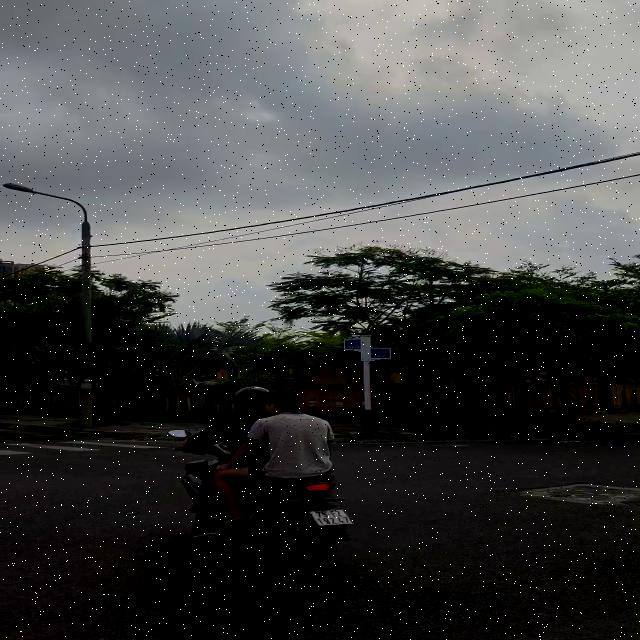helmet: (234, 386, 269, 411)
no_helmet: (274, 388, 310, 412)
